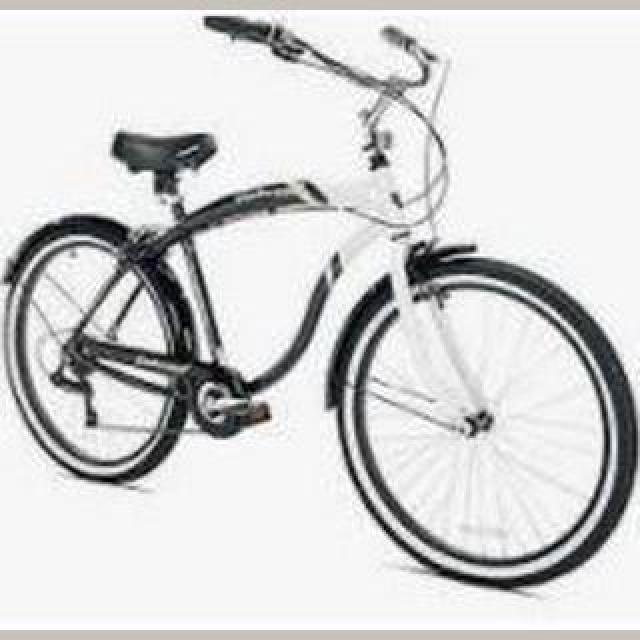Person: (0, 10, 636, 590)
